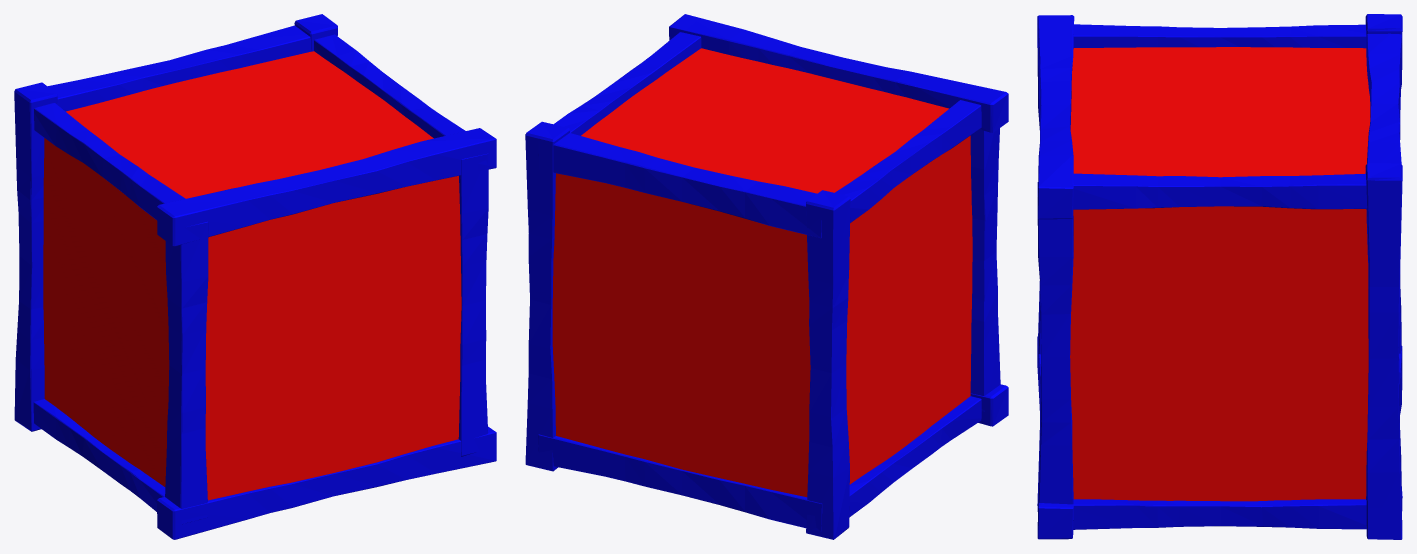
File: SM_Human_wall.fbx
The picture shows the model from 3 angles, left to right: view 1: azimuth 30°, elevation 25°; view 2: azimuth 150°, elevation 25°; view 3: azimuth 270°, elevation 25°; orthographic projection. The views are drawn at different scales.
Visible parts, largest first — view 1: wall; view 2: wall; view 3: wall.
Boxes of the visible parts, box(x1,y1,x2,y2) form: wall: box(14, 14, 496, 539); wall: box(525, 14, 1008, 539); wall: box(1037, 14, 1402, 539).
Bounding box in the file's own units: 116 × 113 × 103.
